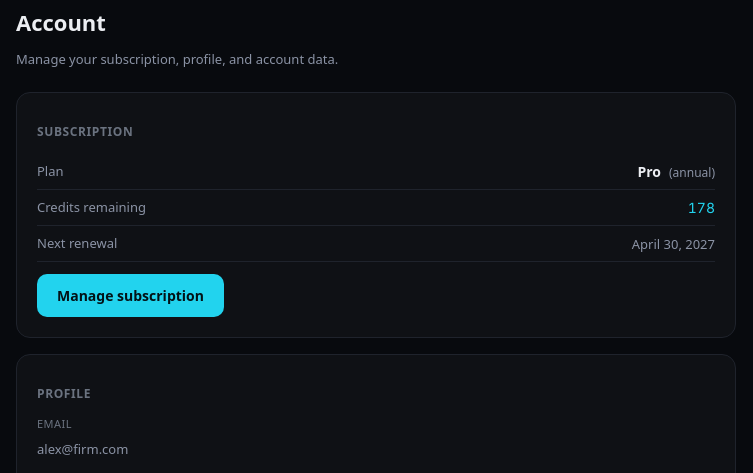
Test: AccountSettings › surfaces a 404 from customer-portal as a friendly message
Click the button with test id "manage-subscription" at x=130, y=295, box x1=37 y1=274 x2=224 y2=317
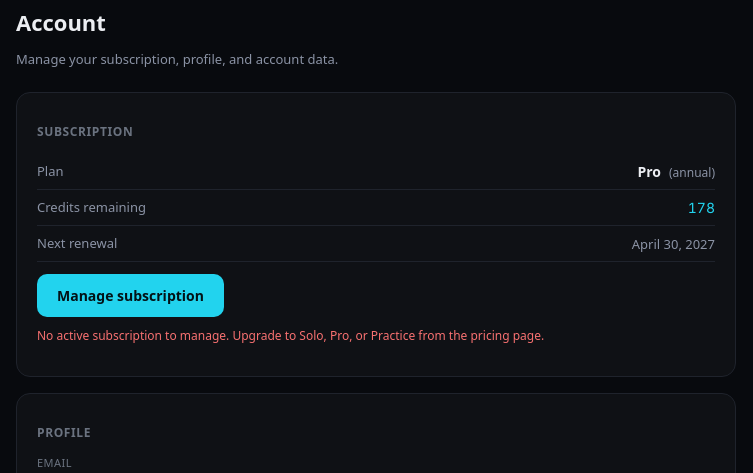
Result: the text with test id "portal-error" shows "No active subscription" at x1=37 y1=327 x2=544 y2=344
